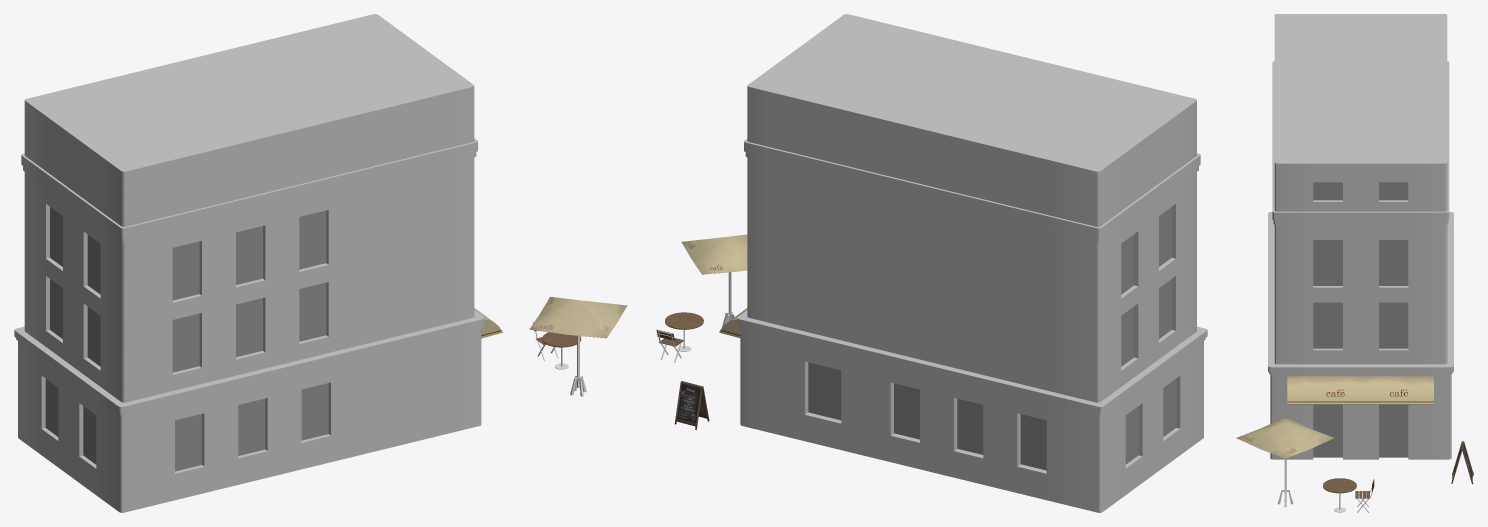
Rendered from cafe.FBX.
3 renders of one model, left to right at view 1: azimuth 30°, elevation 25°; view 2: azimuth 150°, elevation 25°; view 3: azimuth 270°, elevation 25°, orthographic. The views are drawn at different scales.
Parts seen in each view (by area): view 1: Box003, Object002, Plane001; view 2: Box003, Object002, Plane001, Menu; view 3: Box003, Object002, cafe01, Plane001, cafe_table.
Part boxes in pixels (x1,y1,x2,y2): Box003: (14, 14, 484, 512); Object002: (45, 207, 328, 471); Plane001: (529, 296, 627, 338); Box003: (737, 14, 1207, 512); Object002: (808, 207, 1176, 470); Plane001: (681, 234, 747, 274); Menu: (674, 381, 702, 429); Box003: (1268, 14, 1453, 459); Object002: (1313, 182, 1408, 457); cafe01: (1287, 376, 1433, 404); Plane001: (1236, 417, 1333, 458); cafe_table: (1323, 478, 1356, 493).
Size of the model in its own units: 23519 by 14822 by 10772.
